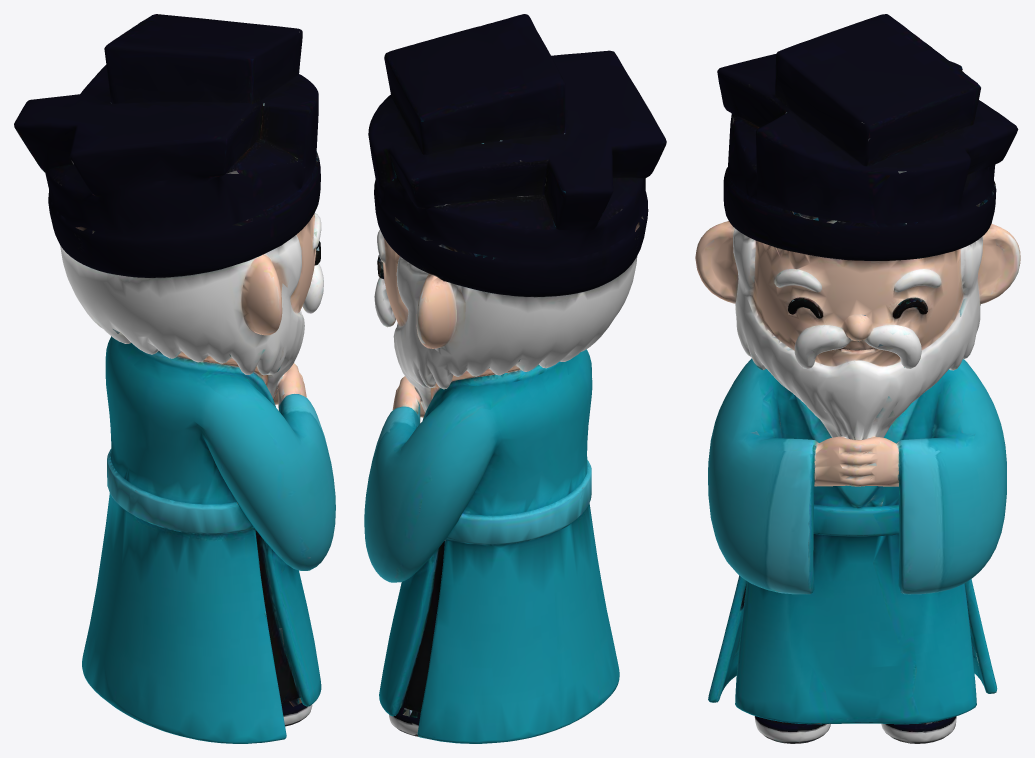
The model's file is guest.glb.
3 views of the same model, side by side, from view 1: azimuth 30°, elevation 25°; view 2: azimuth 150°, elevation 25°; view 3: azimuth 270°, elevation 25° (orthographic).
Visible parts, largest first — view 1: guest; view 2: guest; view 3: guest.
Part boxes in pixels (x1=…): guest: x1=14, y1=14, x2=335, y2=743; guest: x1=364, y1=14, x2=666, y2=743; guest: x1=695, y1=14, x2=1020, y2=743.
Bounding box in the file's own units: 0.4073 × 1 × 0.4432.
Materials: 1 (1 with a texture image).
